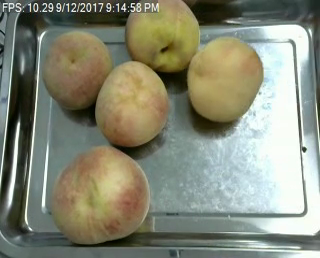Peach: (50, 145, 149, 245), (188, 36, 263, 123), (94, 60, 169, 147), (41, 28, 113, 111), (125, 0, 201, 72)
